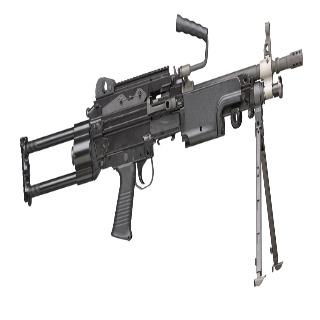rifle: (18, 13, 303, 287)
